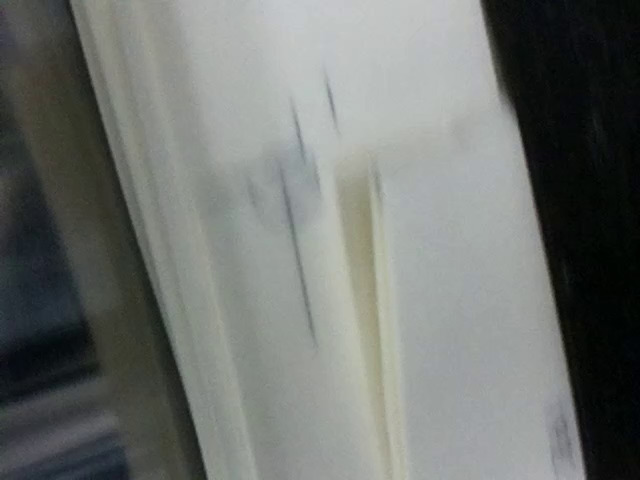not_sure: (187, 99, 331, 235)
